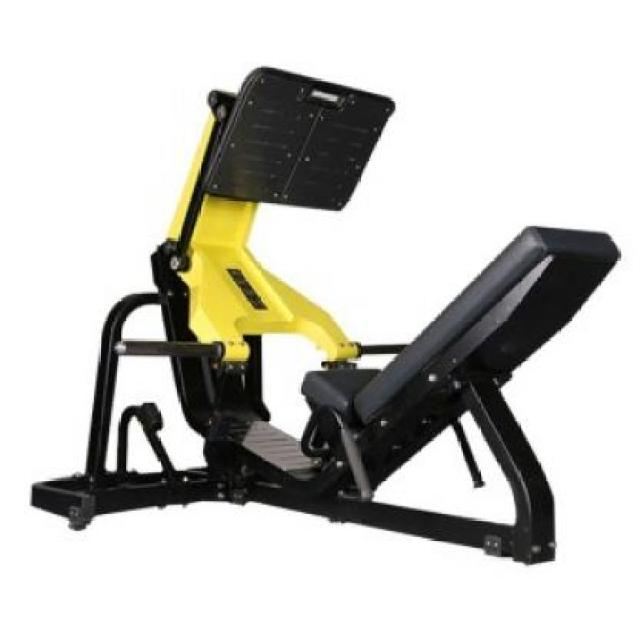leg press: (31, 51, 629, 582)
